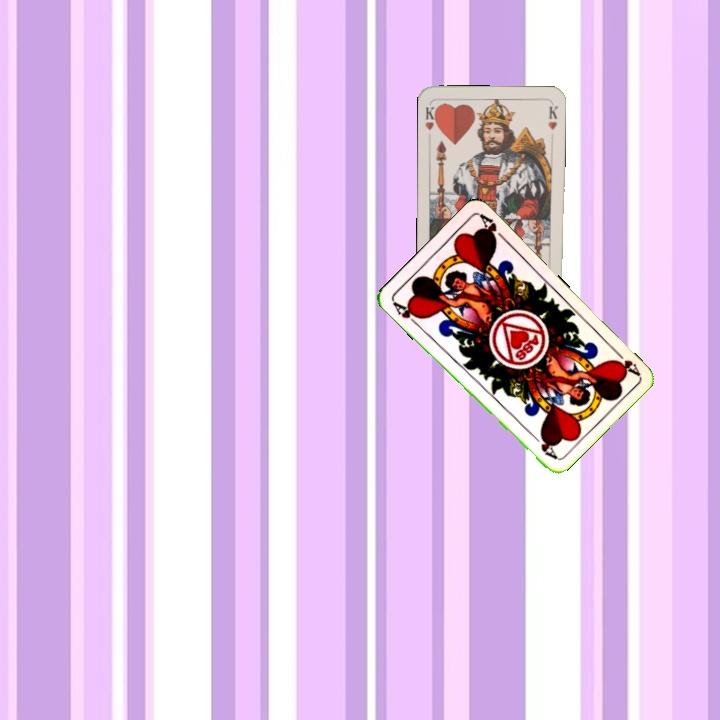HA: (388, 297, 425, 329), (608, 344, 642, 378)
HK: (421, 100, 440, 133)
